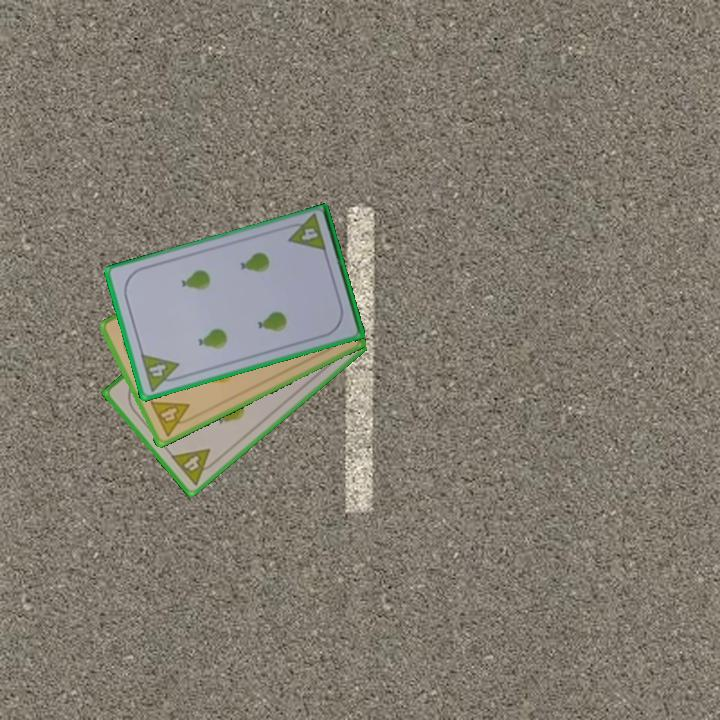4p: (167, 445, 221, 488), (137, 350, 185, 394), (147, 397, 197, 439), (282, 212, 329, 255)
